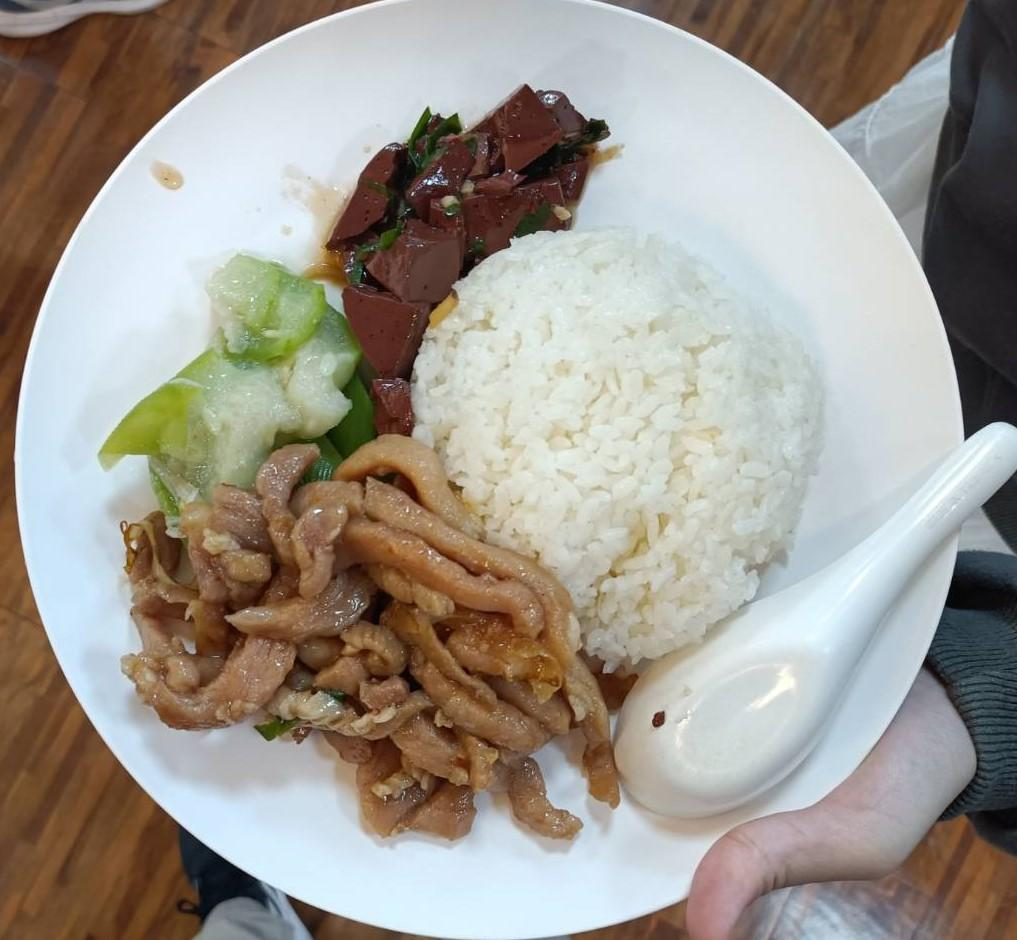big fried chicken leg: (14, 0, 979, 937)
big herbal chicken leg: (407, 223, 819, 672)
braised fish fillet: (329, 84, 606, 446), (101, 260, 356, 526)
braised pork: (108, 432, 628, 851)
